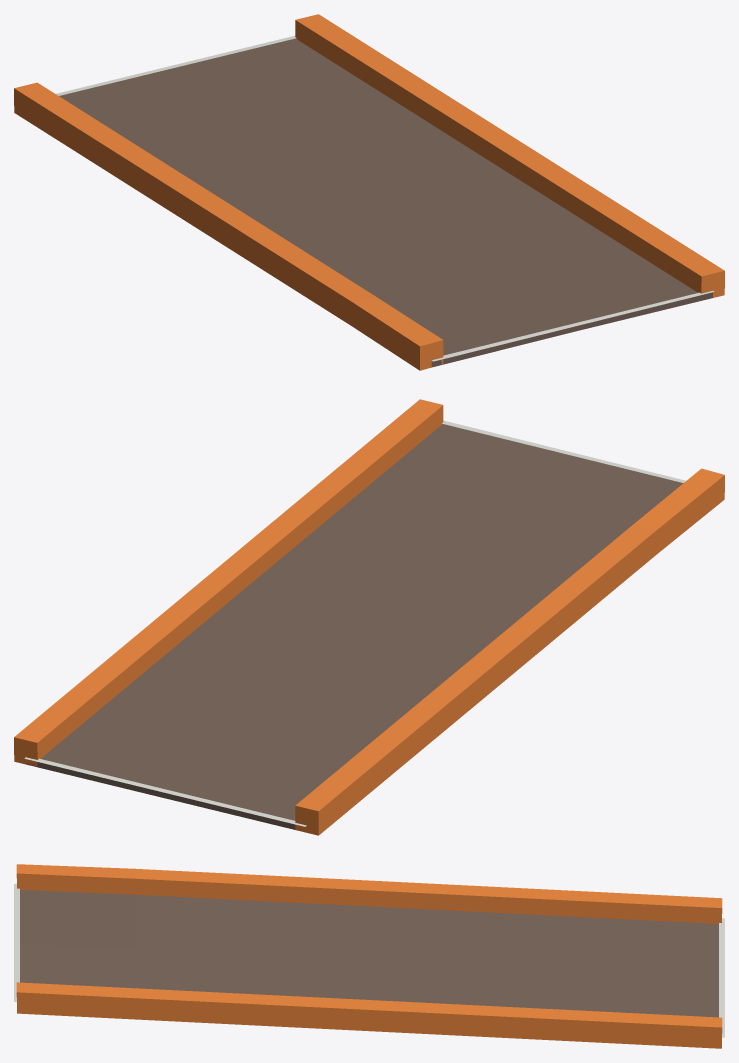
The model's file is SM_MP_Film_C_3_0.fbx.
3 renders of one model, top to bottom at view 1: azimuth 30°, elevation 25°; view 2: azimuth 150°, elevation 25°; view 3: azimuth 270°, elevation 25°, orthographic. The views are drawn at different scales.
Visible parts, largest first — view 1: SM_MP_Film_C_3_0; view 2: SM_MP_Film_C_3_0; view 3: SM_MP_Film_C_3_0.
Boxes of the visible parts, bbox=[...] form: SM_MP_Film_C_3_0: bbox=[14, 14, 724, 370]; SM_MP_Film_C_3_0: bbox=[14, 399, 724, 835]; SM_MP_Film_C_3_0: bbox=[14, 864, 724, 1048].
Size of what is drawn, in the model's own units: 260 by 605 by 53.17.
